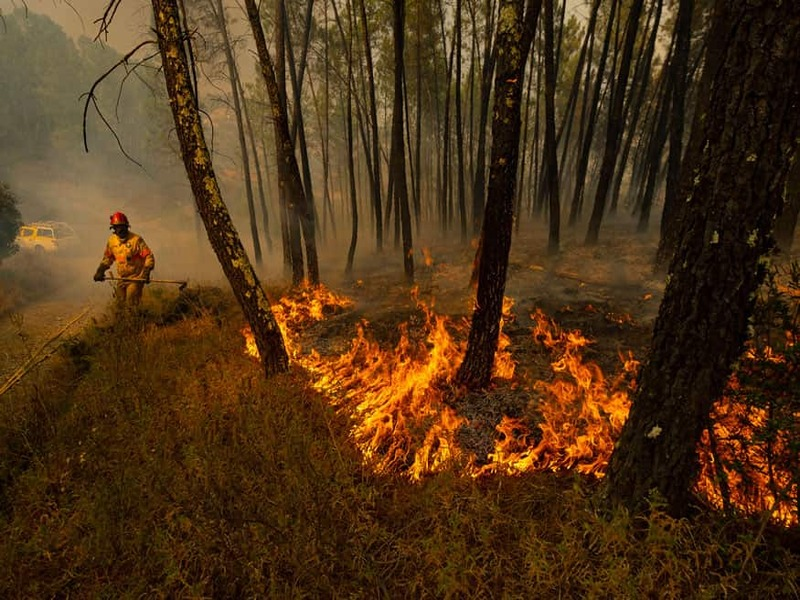fire: (305, 332, 640, 474)
